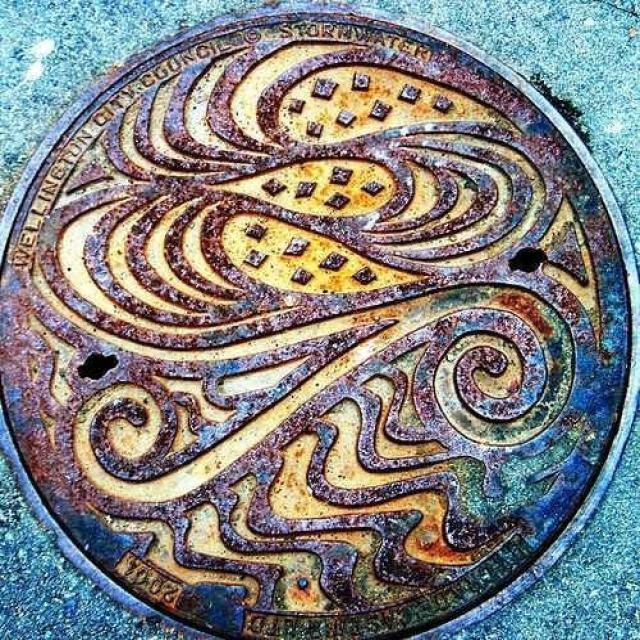manhole: (0, 8, 632, 640)
